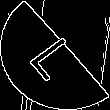L_NE: (23, 27, 87, 83)
